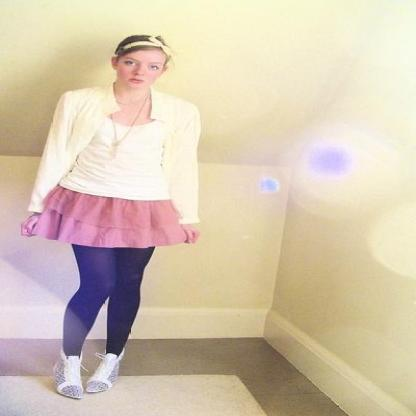shirt: (28, 88, 200, 224)
shoe: (48, 376, 107, 400)
skirt: (20, 183, 200, 248)
